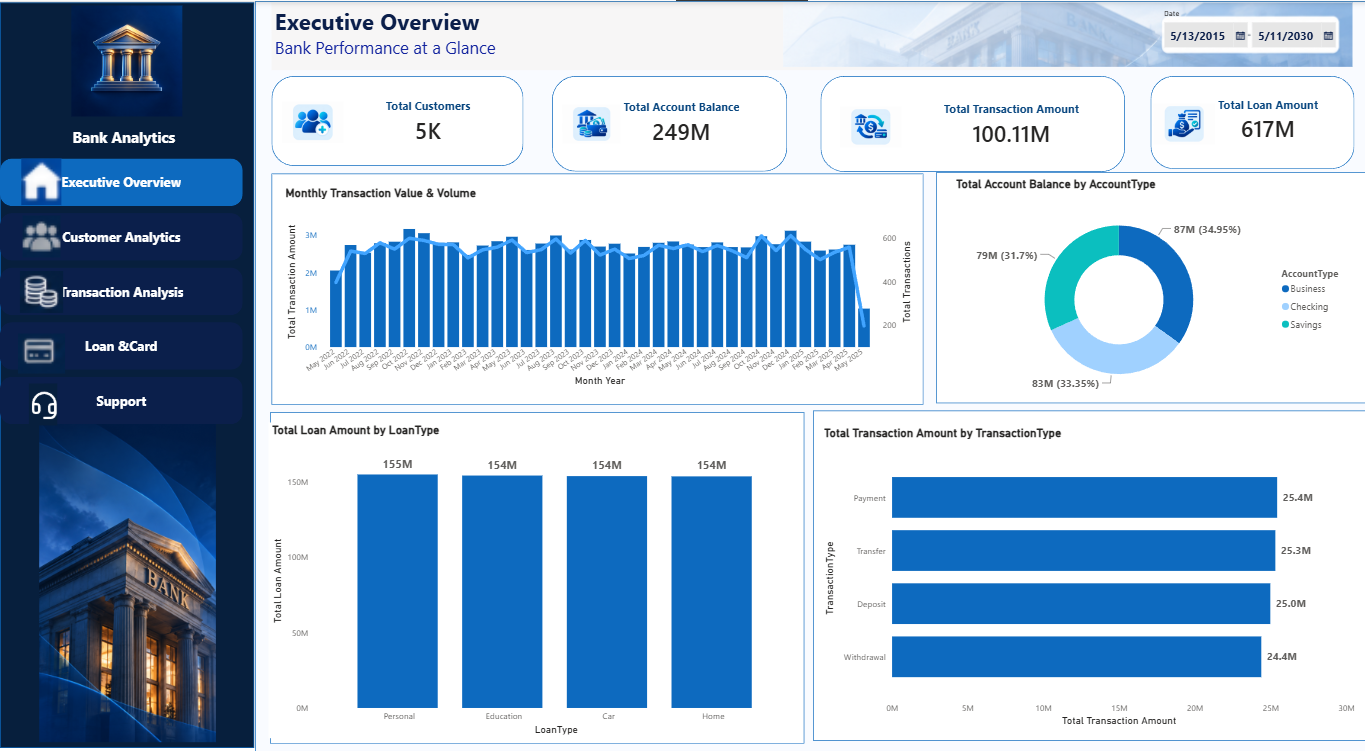

This screenshot's page, from the dashboard's own definition file:
{"tool":"powerbi","page":{"name":"Executive Overview","canvas":[1960,1078],"ordinal":0},"visuals":[{"type":"group","id":"g1","title":"Group 12","box":[0,2.1,364.6,1065.9],"z":0},{"type":"shape","box":[0,2.1,363.4,1065.9],"z":0,"group":"g1"},{"type":"shape","box":[364.6,0,1595.6,1076.6],"z":1000},{"type":"image","box":[0,598,364.6,461.1],"z":1000,"group":"g1"},{"type":"textbox","box":[388.2,2.1,1155.9,96.5],"z":2000},{"type":"group","id":"g2","title":"Group 1","box":[1338.2,244.5,621.9,330.3],"z":7000},{"type":"group","id":"g3","title":"Group 2","box":[388.2,246.6,932.9,330.3],"z":8000},{"type":"group","id":"g4","title":"Group 5","box":[384.4,587.6,765.7,474.2],"z":9000},{"type":"shape","box":[388.2,107.2,360.3,128.7],"z":10000,"group":"g9"},{"type":"group","id":"g5","title":"Group 6","box":[1162.4,585.5,791.4,474],"z":10000},{"type":"shape","box":[789.2,107.2,336.3,136.7],"z":11000,"group":"g8"},{"type":"group","id":"g6","title":"Group 7","box":[1645.3,107.4,291.7,133],"z":11000},{"type":"group","id":"g7","title":"Group 8","box":[1173.1,107.2,435.4,137.3],"z":12000},{"type":"shape","box":[1173.1,107.2,435.4,137.3],"z":13000,"group":"g7"},{"type":"group","id":"g8","title":"Group 10","box":[789.2,107.2,336.3,136.7],"z":14000},{"type":"shape","box":[1645.3,107.4,291.7,133],"z":14000,"group":"g6"},{"type":"group","id":"g9","title":"Group 11","box":[388.2,107.2,360.3,128.7],"z":15000},{"type":"textbox","box":[60,173.7,233.8,64.3],"z":16000},{"type":"shape","box":[1162.4,585.5,792.3,472.3],"z":16000,"group":"g5"},{"type":"shape","box":[1338.2,244.5,621.2,330.8],"z":17000,"group":"g2"},{"type":"shape","box":[386,587.6,764.1,474.2],"z":18000,"group":"g4"},{"type":"shape","box":[388.2,246.6,932.2,330.9],"z":19000,"group":"g3"},{"type":"image","box":[0,6.4,362.4,158.7],"z":27000},{"type":"cardVisual","fields":{"Data":["calculated_table.Total Customers"]},"box":[490.8,117.4,242.3,107.2],"z":28000,"group":"g9"},{"type":"cardVisual","fields":{"Data":["calculated_table.Total Account Balance"]},"box":[833.8,115.3,280.9,115.8],"z":29000,"group":"g8"},{"type":"cardVisual","fields":{"Data":["calculated_table.Total Transaction Amount"]},"box":[1309.2,117.1,276.5,117.8],"z":30000,"group":"g7"},{"type":"cardVisual","fields":{"Data":["calculated_table.Total Loan Amount"]},"box":[1706.9,110.9,212.3,118],"z":32000,"group":"g6"},{"type":"lineStackedColumnComboChart","title":"Monthly Transaction Value & Volume","fields":{"Category":["DimDate.Month Year"],"Y":["calculated_table.Total Transaction Amount"],"Y2":["calculated_table.Total Transactions"]},"box":[402.3,262.8,904.6,292],"z":37000},{"type":"donutChart","fields":{"Y":["calculated_table.Total Account Balance"],"Category":["Accounts.AccountType"]},"box":[1361.8,250.9,573.2,322.2],"z":38000},{"type":"pageNavigator","box":[0,225.2,347.4,381.7],"z":38001},{"type":"clusteredColumnChart","fields":{"Category":["Loans.LoanType"],"Y":["calculated_table.Total Loan Amount"]},"box":[384.4,602.4,760.5,451.2],"z":38001,"group":"g4"},{"type":"image","box":[27.9,546.9,67.5,60],"z":38002},{"type":"clusteredBarChart","fields":{"Category":["Transactions.TransactionType"],"Y":["calculated_table.Total Transaction Amount"]},"box":[1174.1,607.9,768.5,434.7],"z":38002,"group":"g5"},{"type":"image","box":[25.7,474,67.5,60],"z":38003},{"type":"image","box":[25.7,386,67.5,60],"z":38004},{"type":"image","box":[25.7,306.7,67.5,60],"z":38005},{"type":"image","box":[25.7,225.2,66.5,66.5],"z":38006},{"type":"image","box":[1649.2,122.2,87.9,107.2],"z":38007},{"type":"image","box":[1201,126.5,87.9,107.2],"z":38008},{"type":"image","box":[804.2,122.2,83.6,107.2],"z":38009},{"type":"image","box":[403.2,120.1,87.9,107.2],"z":38010},{"type":"image","box":[1113.1,2.1,827.8,92.2],"z":38011},{"type":"slicer","fields":{"Values":["DimDate.Date"]},"box":[1651.3,6.4,276.7,83.6],"z":38012}]}

Visuals, with their boxes in screenshot pixels (x1, y1, x2, y2), scaled from the page's 1960x1078 canvas onto the 1365x751 screenshot:
"Group 12" group: [left=0, top=1, right=254, bottom=744]
shape: [left=0, top=1, right=253, bottom=744]
shape: [left=254, top=0, right=1364, bottom=750]
image: [left=0, top=417, right=254, bottom=738]
textbox: [left=270, top=1, right=1075, bottom=69]
"Group 1" group: [left=932, top=170, right=1364, bottom=400]
"Group 2" group: [left=270, top=172, right=920, bottom=402]
"Group 5" group: [left=268, top=409, right=801, bottom=740]
shape: [left=270, top=75, right=521, bottom=164]
"Group 6" group: [left=810, top=408, right=1361, bottom=738]
shape: [left=550, top=75, right=784, bottom=170]
"Group 7" group: [left=1146, top=75, right=1349, bottom=167]
"Group 8" group: [left=817, top=75, right=1120, bottom=170]
shape: [left=817, top=75, right=1120, bottom=170]
"Group 10" group: [left=550, top=75, right=784, bottom=170]
shape: [left=1146, top=75, right=1349, bottom=167]
"Group 11" group: [left=270, top=75, right=521, bottom=164]
textbox: [left=42, top=121, right=205, bottom=166]
shape: [left=810, top=408, right=1361, bottom=737]
shape: [left=932, top=170, right=1364, bottom=401]
shape: [left=269, top=409, right=801, bottom=740]
shape: [left=270, top=172, right=920, bottom=402]
image: [left=0, top=4, right=252, bottom=115]
cardVisual - calculated_table.Total Customers: [left=342, top=82, right=511, bottom=156]
cardVisual - calculated_table.Total Account Balance: [left=581, top=80, right=776, bottom=161]
cardVisual - calculated_table.Total Transaction Amount: [left=912, top=82, right=1104, bottom=164]
cardVisual - calculated_table.Total Loan Amount: [left=1189, top=77, right=1337, bottom=159]
"Monthly Transaction Value & Volume" lineStackedColumnComboChart: [left=280, top=183, right=910, bottom=387]
donutChart - calculated_table.Total Account Balance x Accounts.AccountType: [left=948, top=175, right=1348, bottom=399]
pageNavigator: [left=0, top=157, right=242, bottom=423]
clusteredColumnChart - Loans.LoanType x calculated_table.Total Loan Amount: [left=268, top=420, right=797, bottom=734]
image: [left=19, top=381, right=66, bottom=423]
clusteredBarChart - Transactions.TransactionType x calculated_table.Total Transaction Amount: [left=818, top=423, right=1353, bottom=726]
image: [left=18, top=330, right=65, bottom=372]
image: [left=18, top=269, right=65, bottom=311]
image: [left=18, top=214, right=65, bottom=255]
image: [left=18, top=157, right=64, bottom=203]
image: [left=1149, top=85, right=1210, bottom=160]
image: [left=836, top=88, right=898, bottom=163]
image: [left=560, top=85, right=618, bottom=160]
image: [left=281, top=84, right=342, bottom=158]
image: [left=775, top=1, right=1352, bottom=66]
slicer - DimDate.Date: [left=1150, top=4, right=1343, bottom=63]
